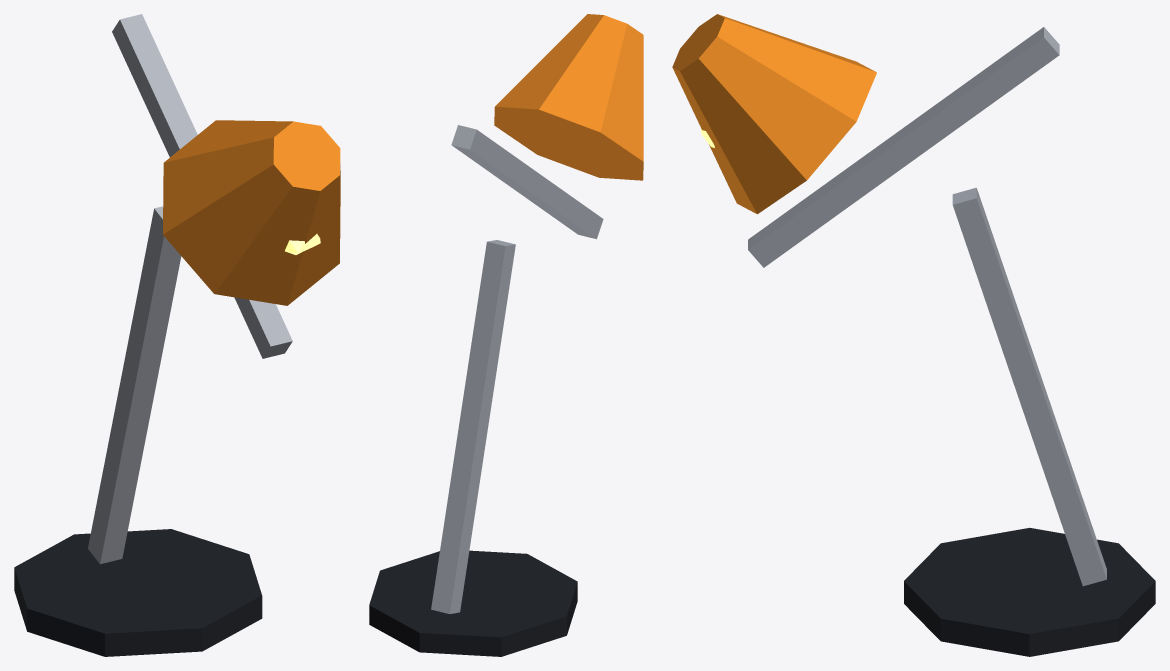
Rendered from desk_lamp.glb.
3 views of the same model, side by side, from view 1: azimuth 30°, elevation 25°; view 2: azimuth 150°, elevation 25°; view 3: azimuth 270°, elevation 25° (orthographic). The views are drawn at different scales.
Parts seen in each view (by area): view 1: desk_lamp; view 2: desk_lamp; view 3: desk_lamp.
Part boxes in pixels (x1,y1,x2,y2): desk_lamp: [14, 14, 340, 656]; desk_lamp: [369, 14, 643, 656]; desk_lamp: [672, 14, 1155, 656].
Bounding box in the file's own units: 0.2 × 0.5133 × 0.3839.
